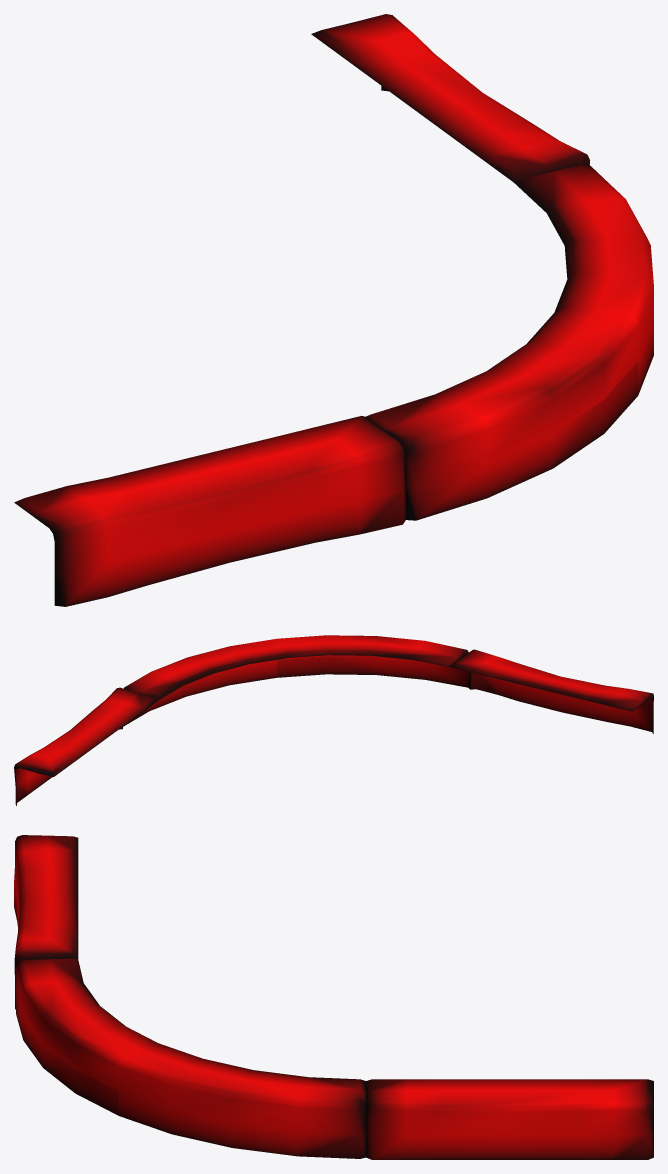
The model's file is curb_outer_corner_1_a.fbx.
3 renders of one model, top to bottom at view 1: azimuth 30°, elevation 25°; view 2: azimuth 150°, elevation 25°; view 3: azimuth 270°, elevation 25°, orthographic. The views are drawn at different scales.
Visible parts, largest first — view 1: curb_outer_corner_1_a; view 2: curb_outer_corner_1_a; view 3: curb_outer_corner_1_a.
Boxes of the visible parts, x1,y1,x2,y2 form: curb_outer_corner_1_a: (14, 14, 653, 606); curb_outer_corner_1_a: (14, 635, 653, 805); curb_outer_corner_1_a: (14, 835, 653, 1159).
Bounding box in the file's own units: 2.23 × 0.2239 × 2.22.
